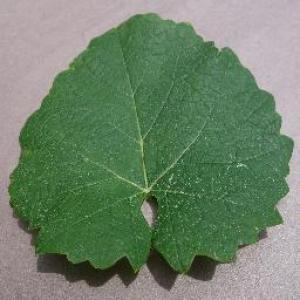Folha: (7, 10, 294, 276)
